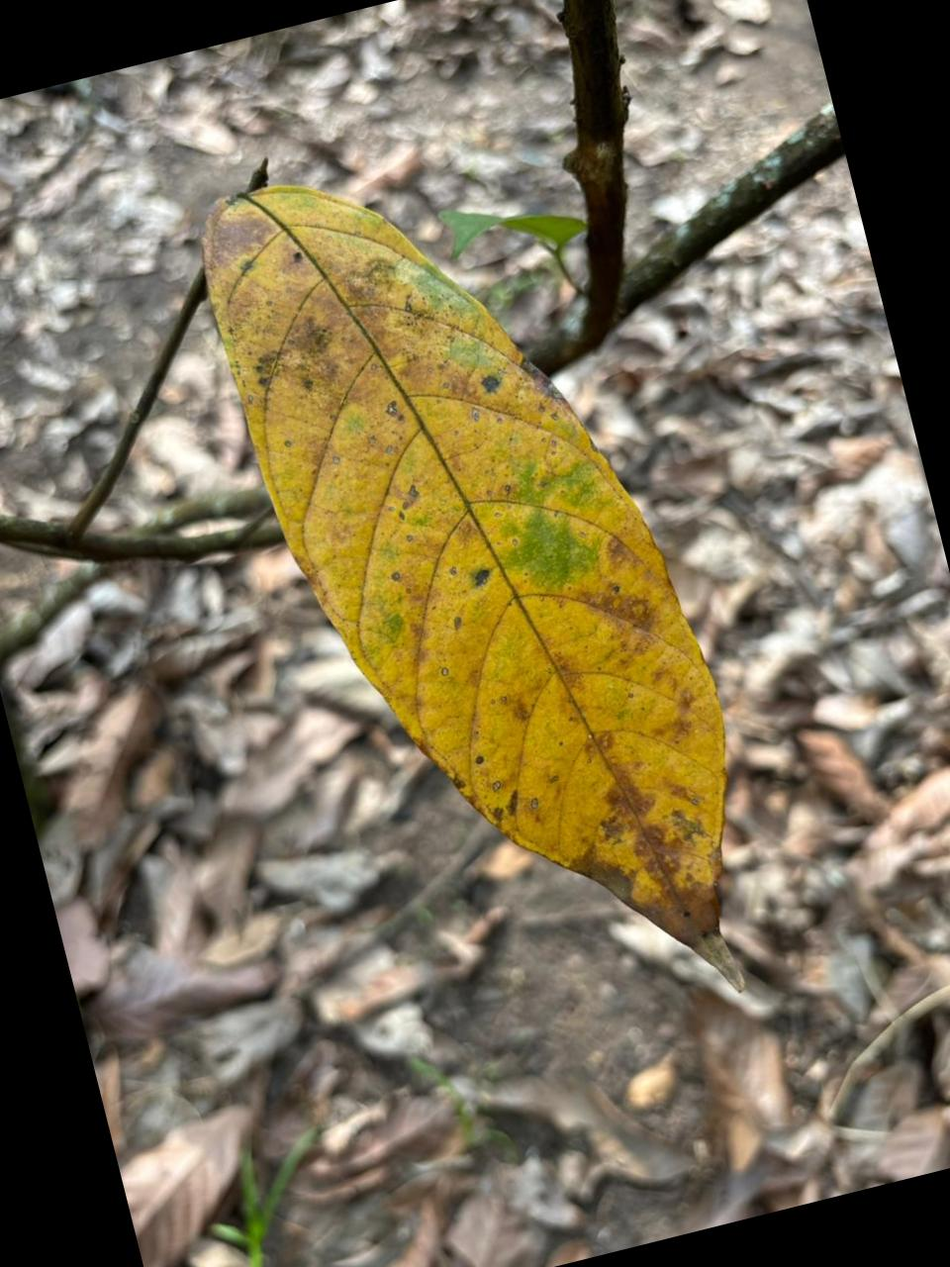Fosforo: (203, 186, 740, 981)
